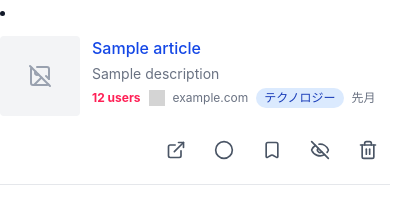
Test case: read-later toggle › adds the entry, then removes it again
Click the button named "あとで読むに追加" at (272, 150), box x1=250 y1=128 x2=294 y2=172
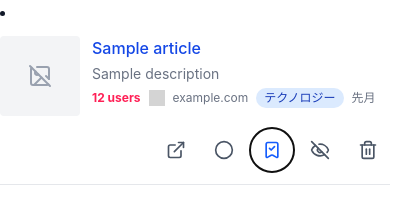
Check: the button named "あとで読むから外す" is shown
Click the button named "あとで読むから外す" at (272, 150), box x1=250 y1=128 x2=294 y2=172
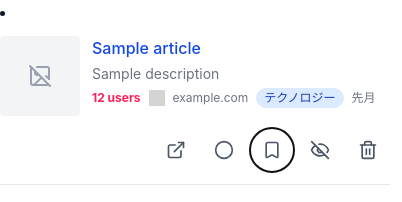
Check: the button named "あとで読むに追加" is shown, box x1=250 y1=128 x2=294 y2=172
